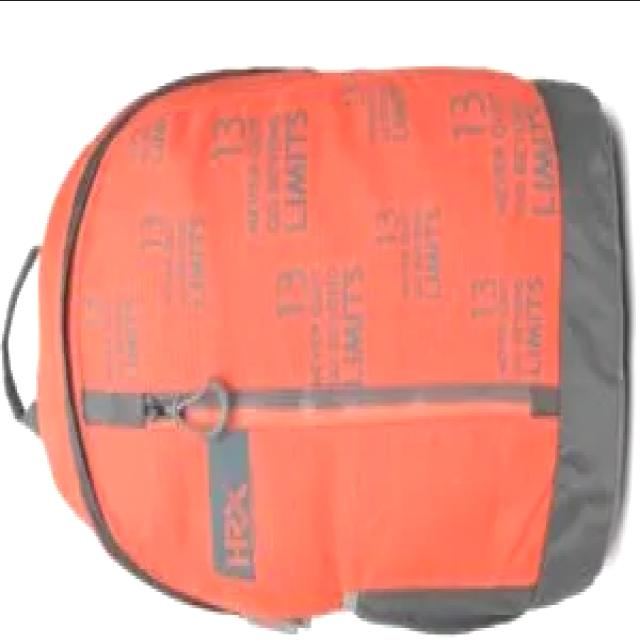backpack: (1, 67, 628, 640)
